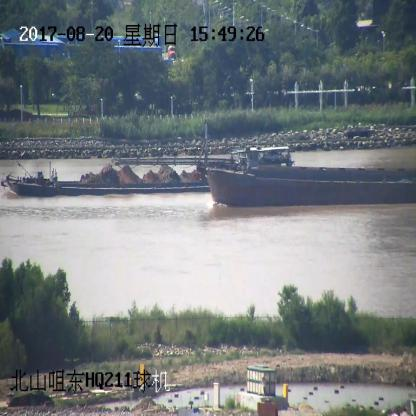Bulk Carrier: (119, 128, 416, 207)
